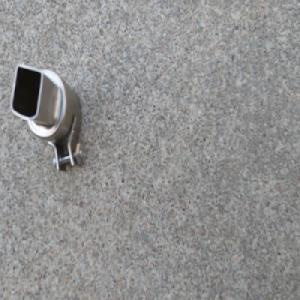MetalPart: (9, 60, 86, 174)
